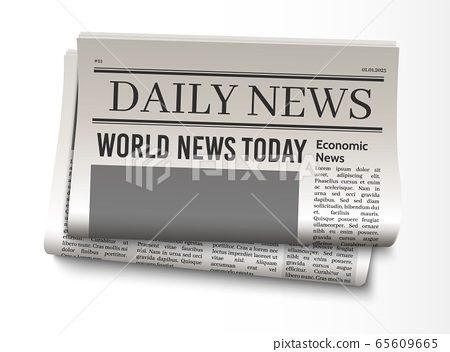news_paper: (38, 32, 442, 317), (66, 31, 407, 251)
